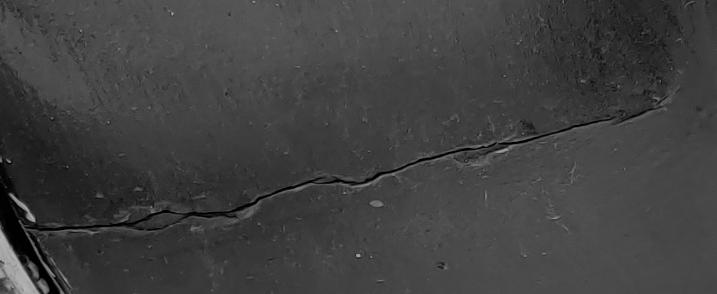crack: (1, 1, 717, 294)
